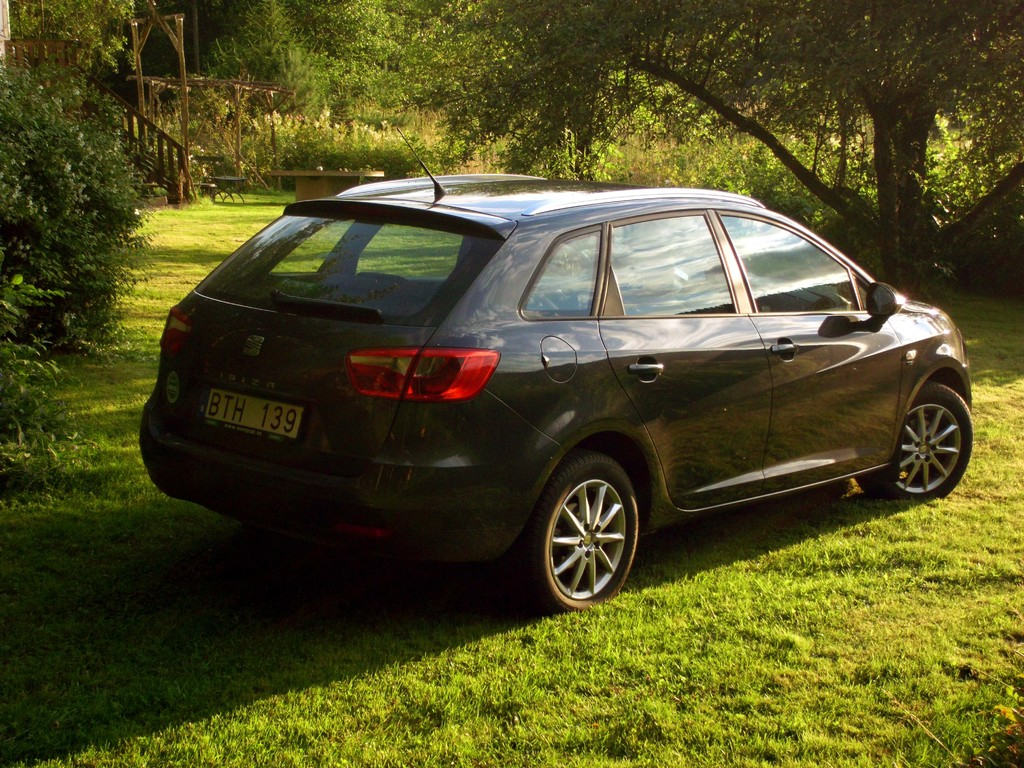Car: (138, 121, 974, 615)
